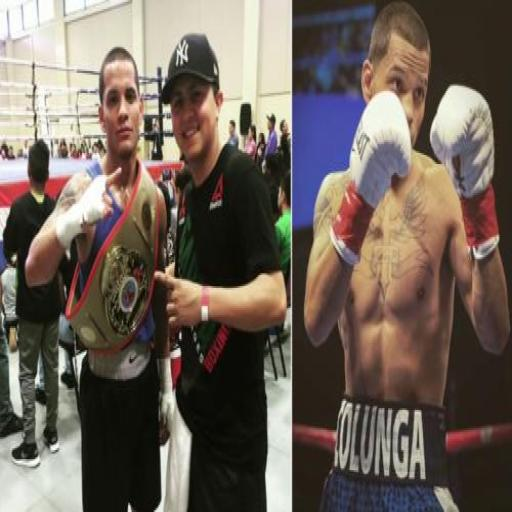boxing: (302, 2, 510, 508)
